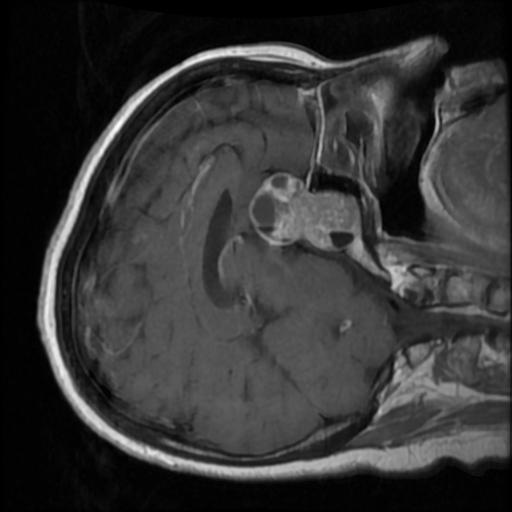pituitary tumour: (247, 171, 362, 252)
